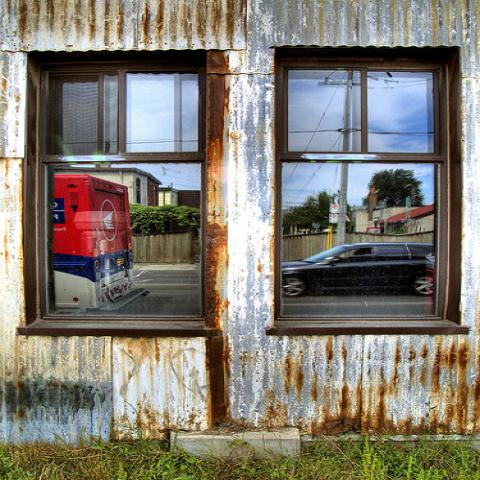car: (282, 243, 434, 298)
truck: (53, 175, 151, 312)
